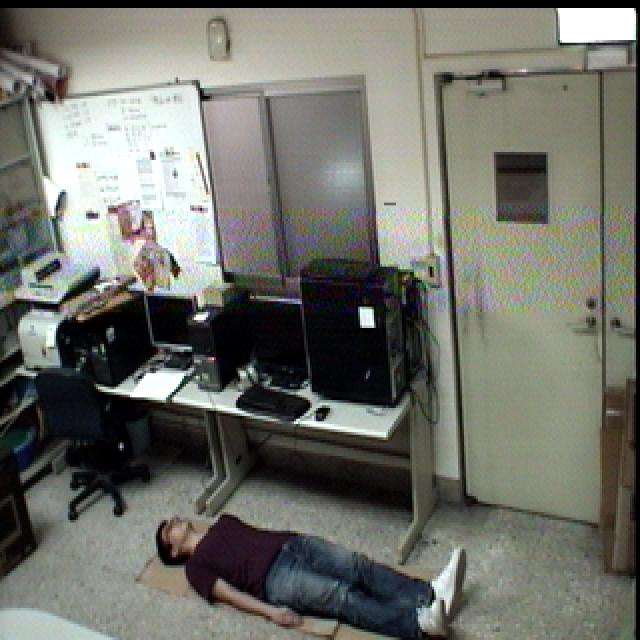lie: (153, 503, 470, 640)
